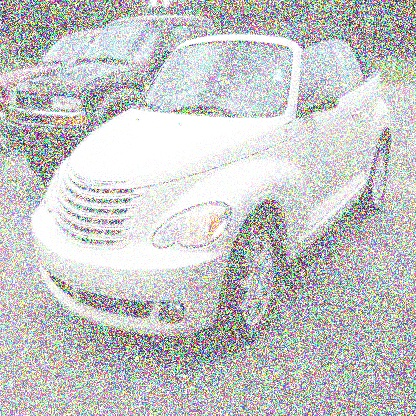Vehicle: (30, 23, 392, 338)
